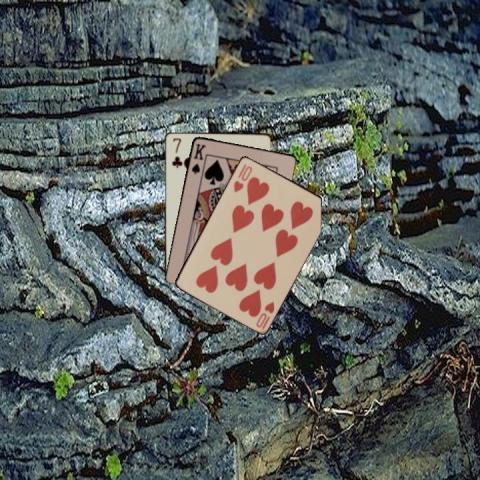10h: (253, 298, 276, 331), (231, 161, 253, 194)
7c: (169, 136, 182, 169)
Ks: (188, 141, 206, 175)
